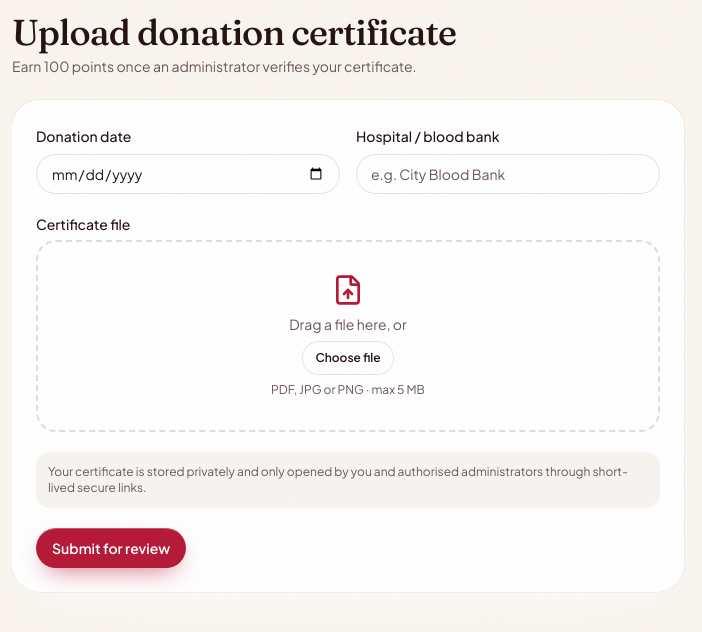
certificate upload workflow (donor) › requires date and location
The width and height of the screenshot is (702, 632).
Click the button "Submit for review" at (111, 548), box [36, 528, 186, 568]
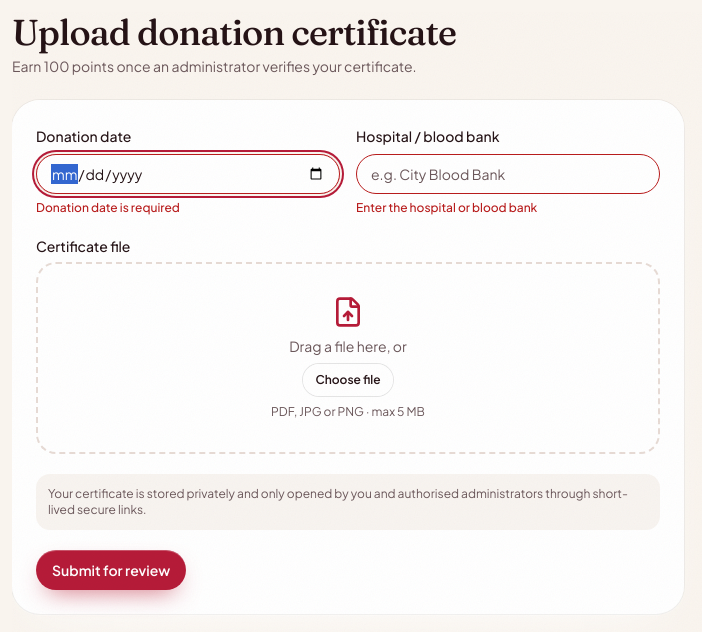
Expected: the text "Donation date is required" is shown, [36, 200, 180, 215]
